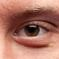eye: (25, 25, 39, 36)
